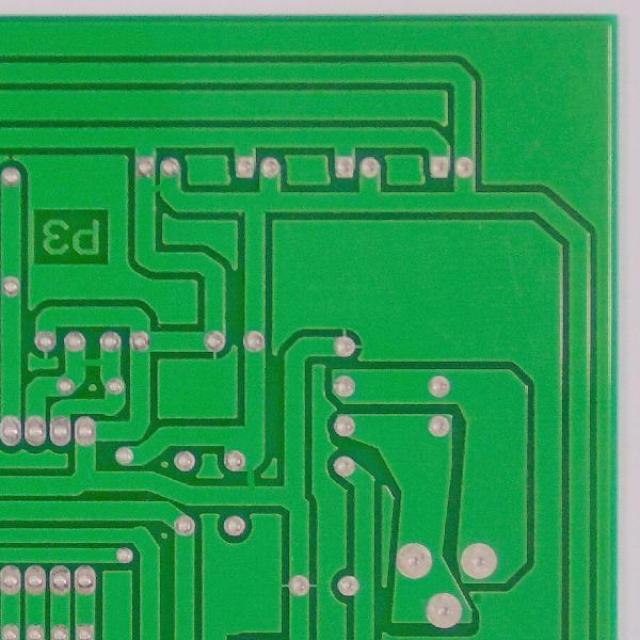Short_Circuit: (66, 350, 119, 374), (136, 176, 179, 202), (240, 458, 263, 500)
